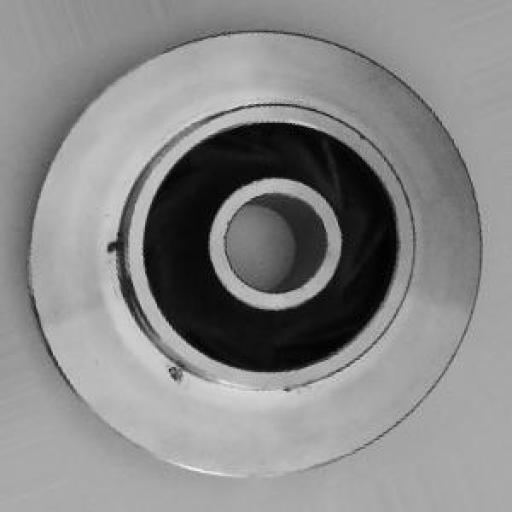defect: (99, 218, 214, 404)
